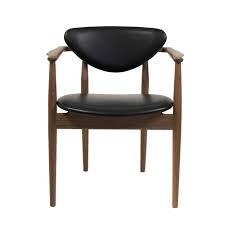chair: (36, 20, 197, 206)
